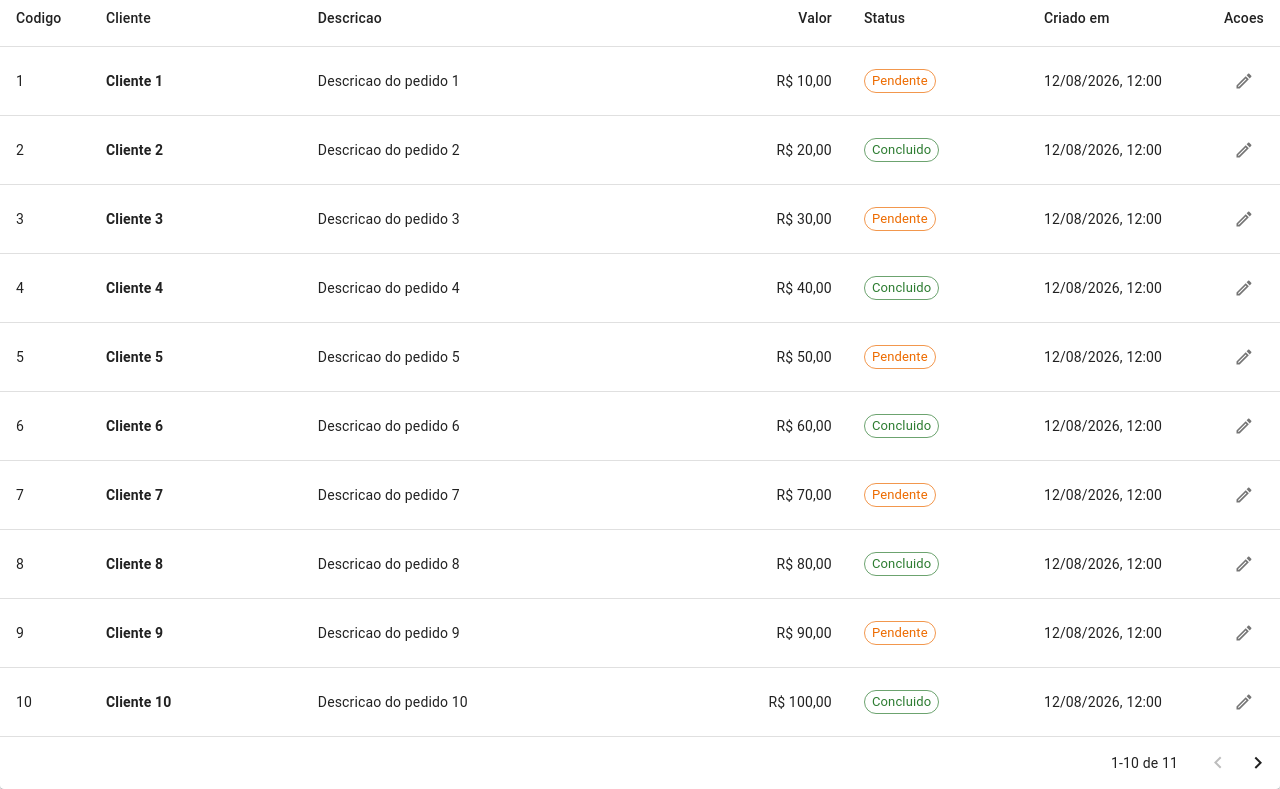
OrdersPage › exibe dez pedidos por pagina
(page scrolled)
expect the text "Cliente 1" is shown: met, box [90, 46, 302, 116]
expect the text "Cliente 10" is shown: met, box [90, 668, 302, 736]
Step 1. Click the button named "Proxima pagina" → (1258, 763), box [1238, 743, 1278, 783]
(page scrolled)
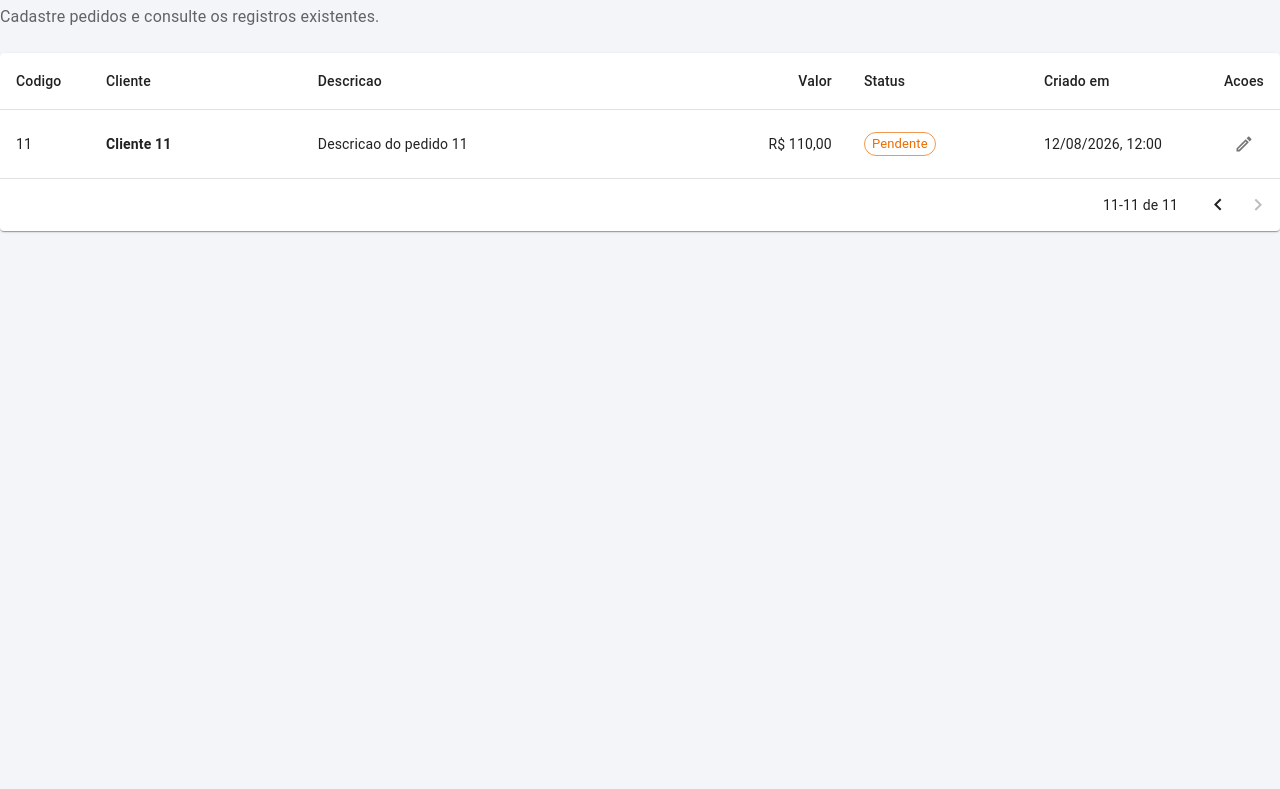
expect the text "Cliente 11" is shown: met, box [90, 110, 302, 178]
expect the text "11-11 de 11" is shown: met, box [1103, 195, 1178, 215]
